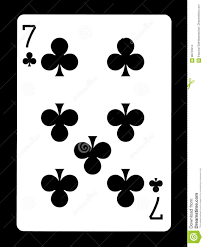seven of clubs: (16, 12, 171, 230)
